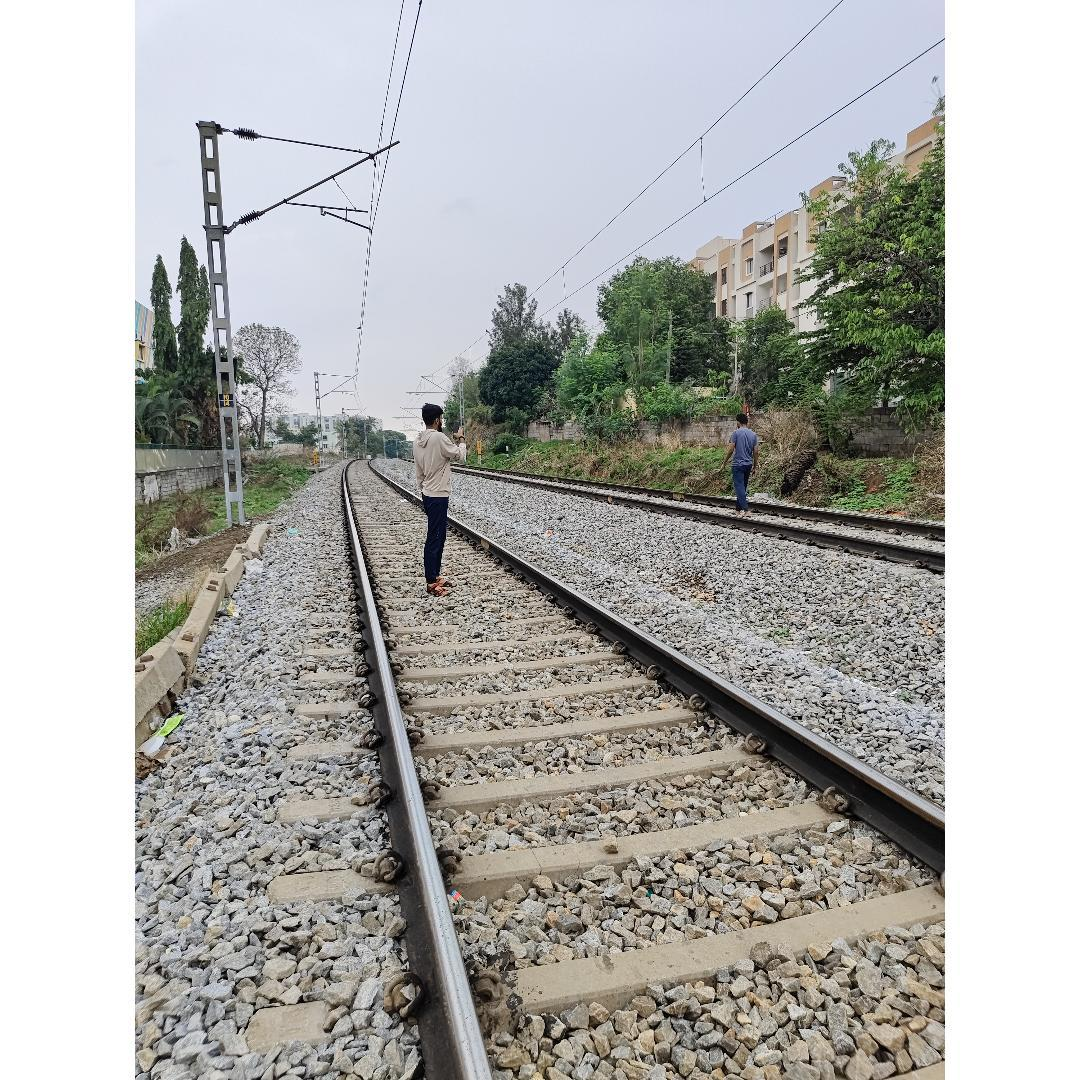standing: (411, 402, 468, 596), (718, 412, 760, 516)
track: (273, 443, 945, 1080), (416, 443, 945, 644)
